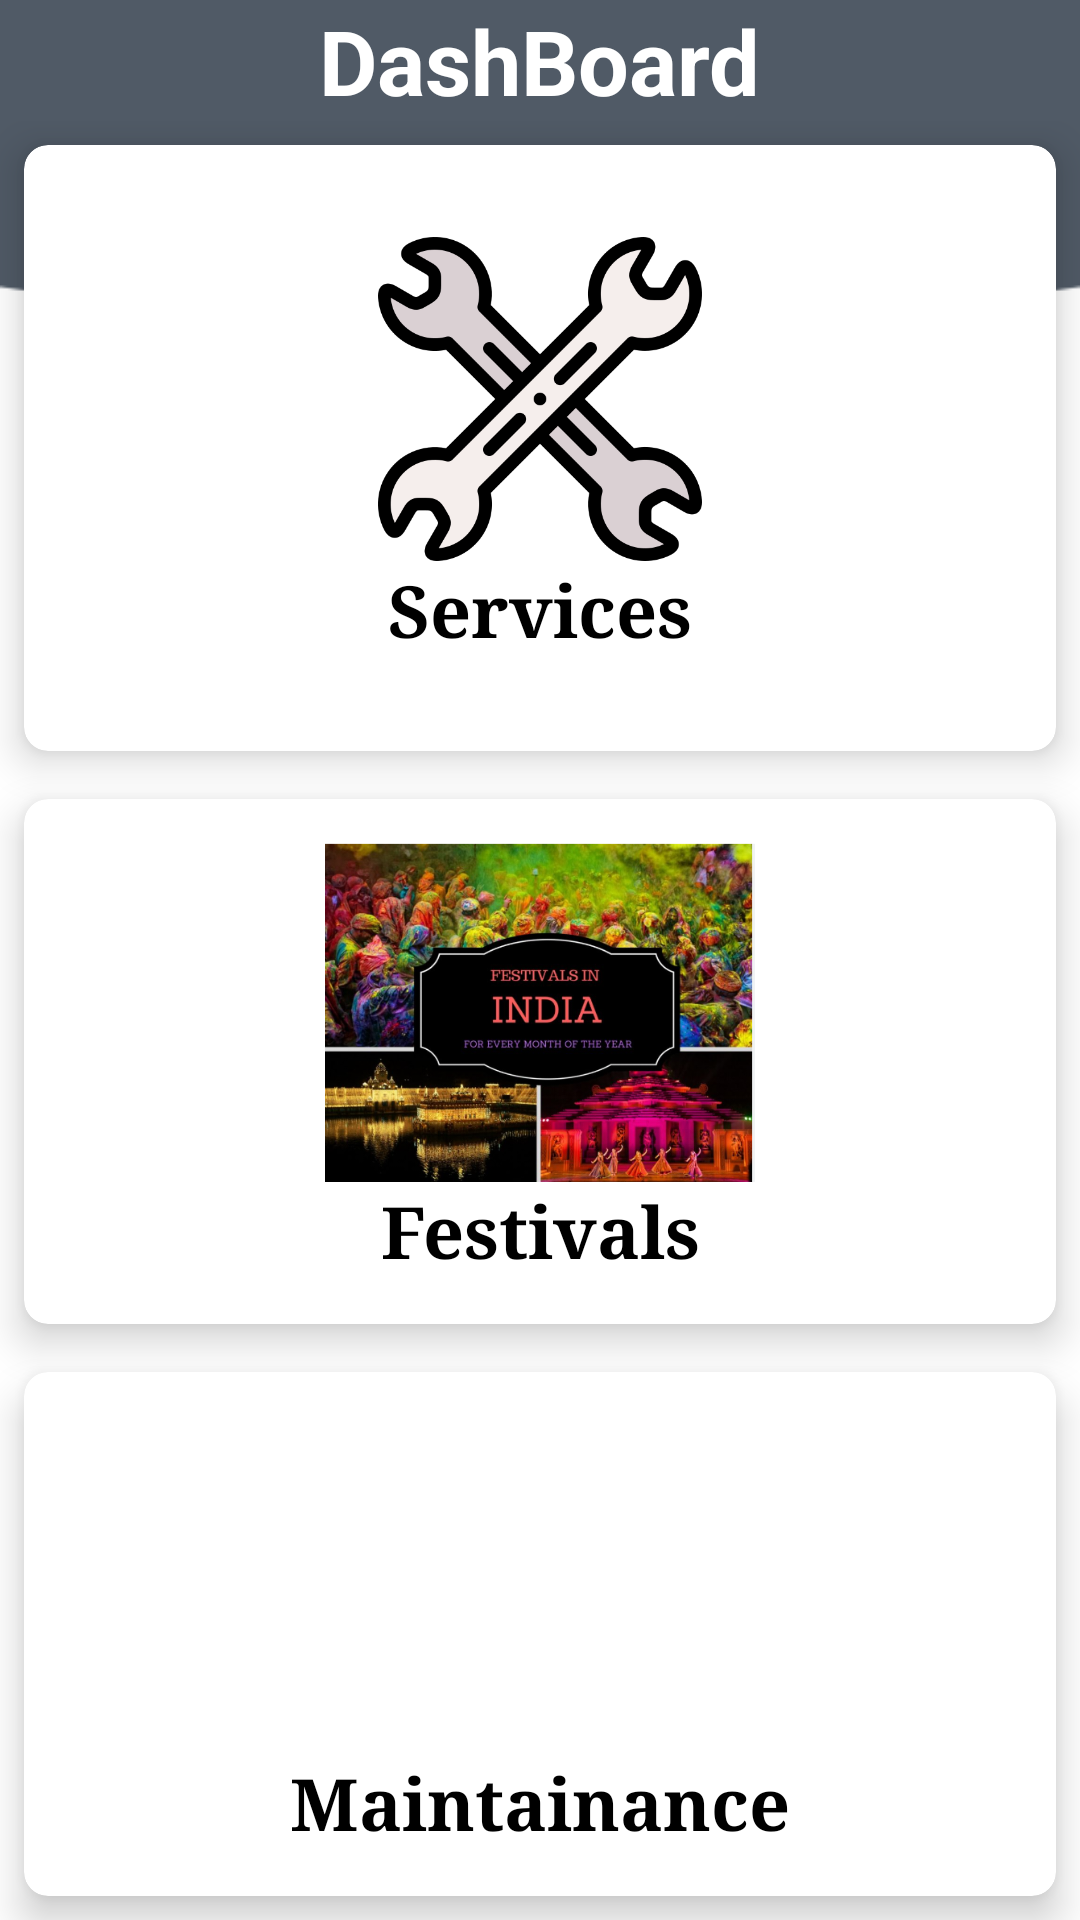

Screen size 1080 x 1920. Icon name, then its box in pixels as (x1, y1, x2, y2):
wrench: (378, 237, 702, 561)
